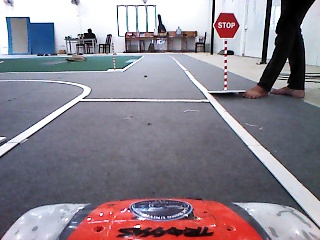stop: (212, 11, 242, 39)
